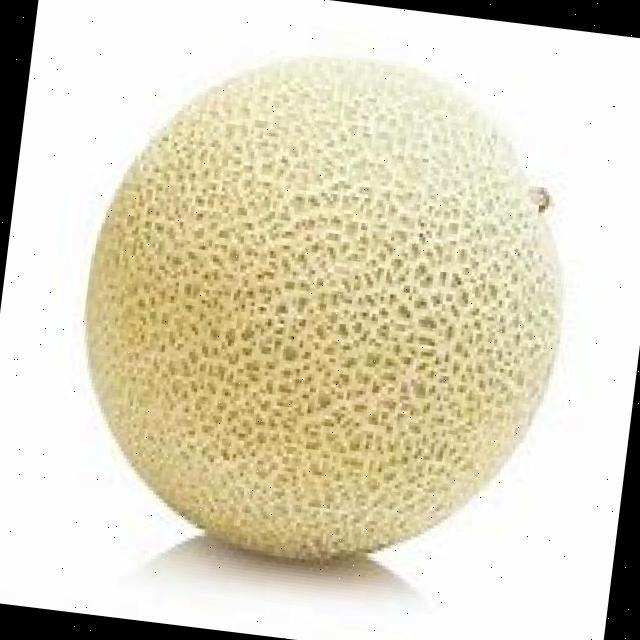Hami Melon: (58, 24, 592, 585)
